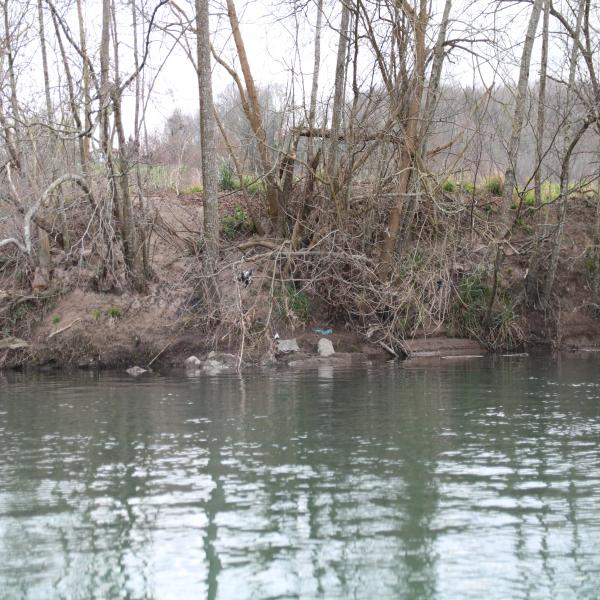fragments: (314, 329, 330, 333)
others: (273, 331, 281, 339)
